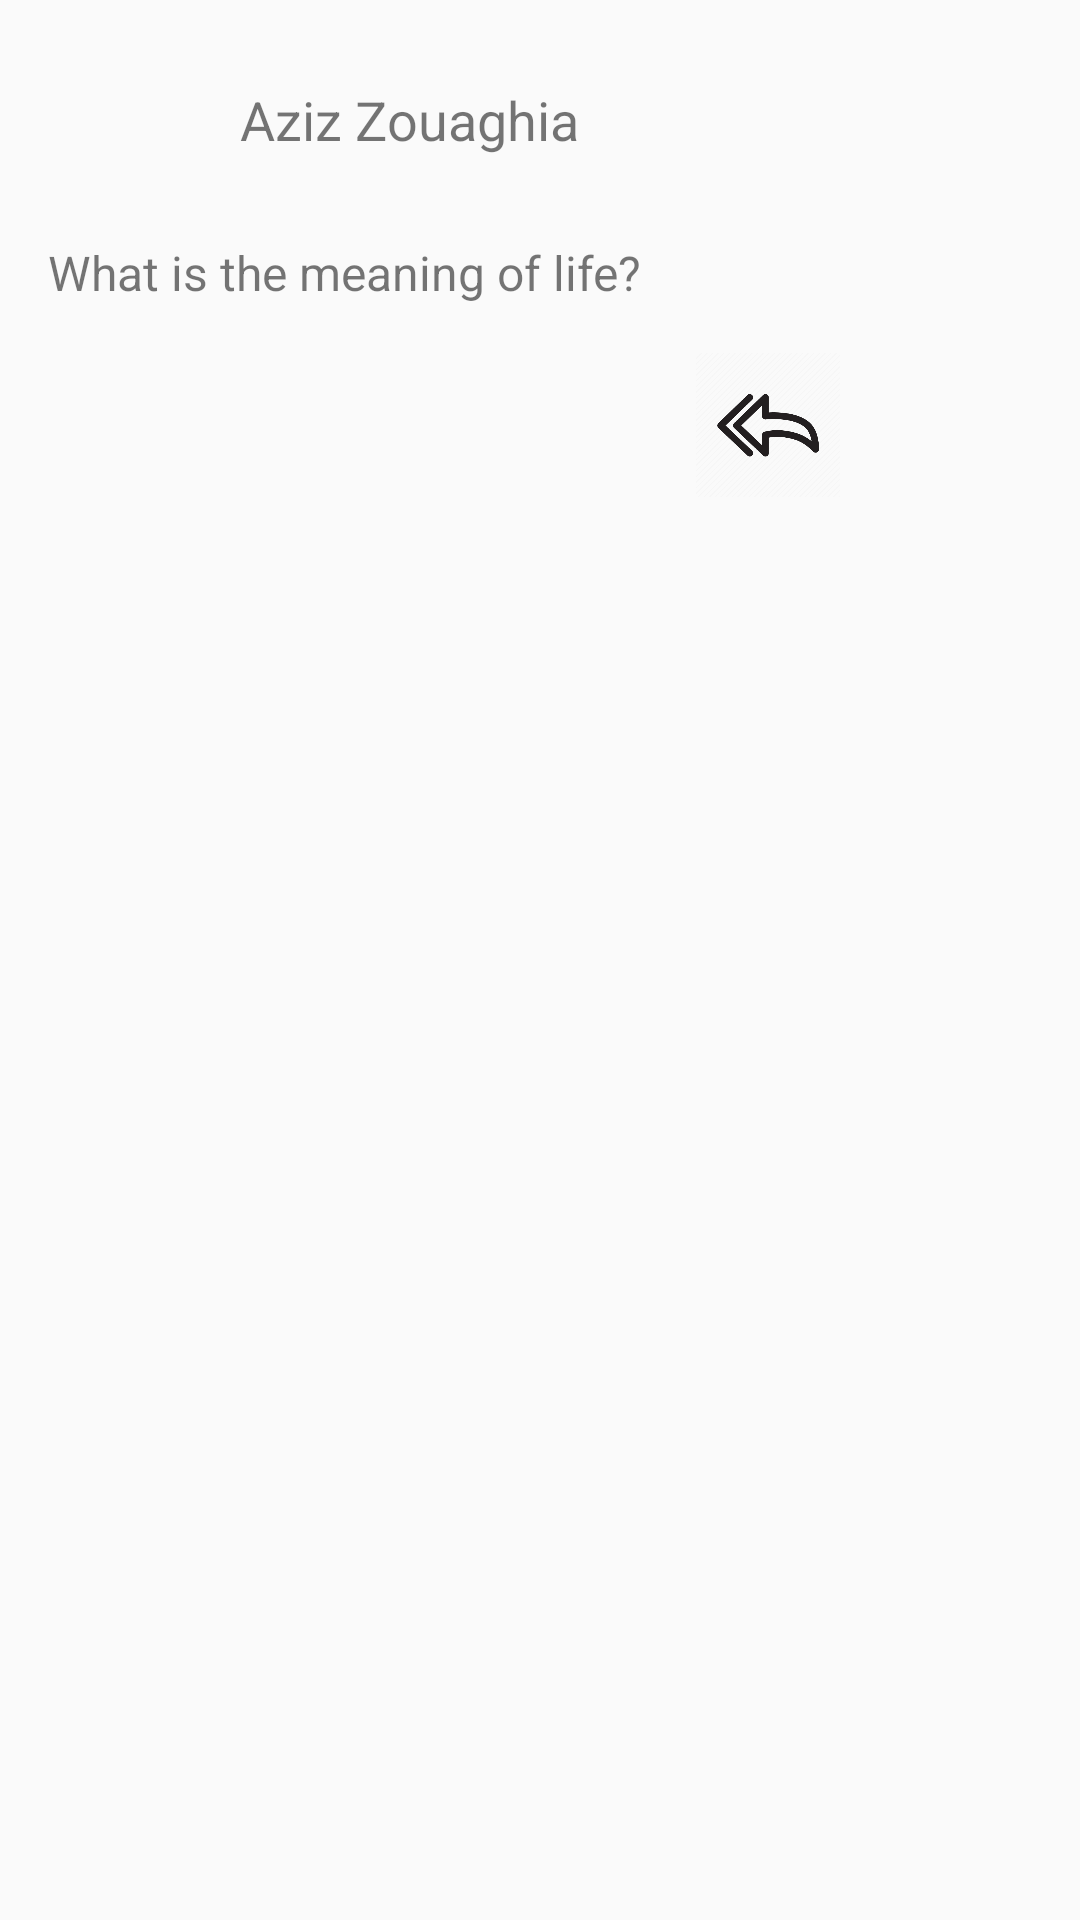

Icon click points for this 1080×1920 phone screenshot, format (x,y):
reply: (768,425)
